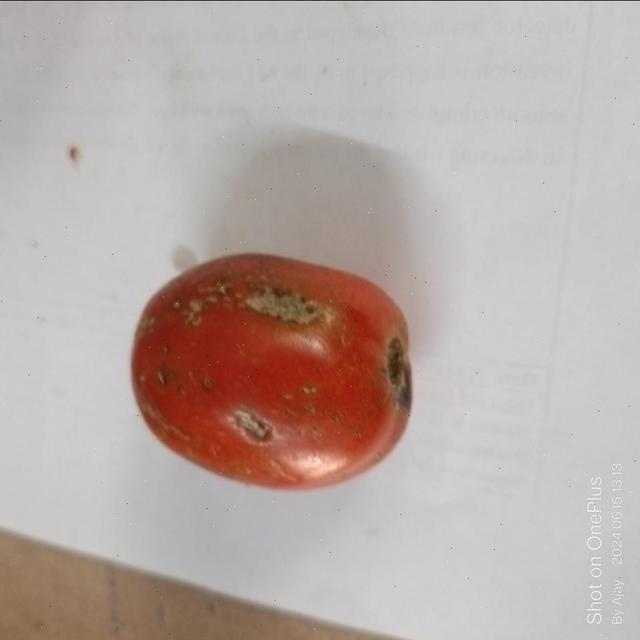Bacterial Spot Fruit: (15, 15, 189, 285)
